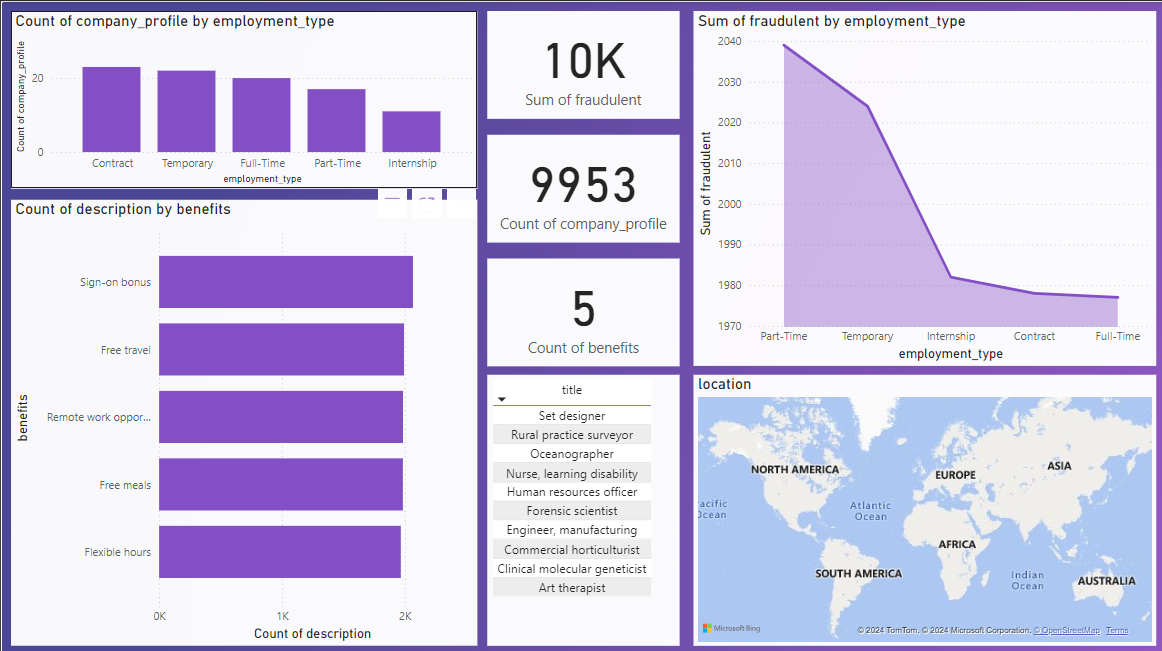

What the dashboard file says about the page in this screenshot:
{"tool":"powerbi","page":{"name":"Page 1","canvas":[1280,720],"ordinal":0},"visuals":[{"type":"areaChart","fields":{"Category":["Fake Postings.employment_type"],"Y":["Sum(Fake Postings.fraudulent)"]},"box":[760.2,11,507.7,389.7],"z":0},{"type":"clusteredColumnChart","fields":{"Category":["Fake Postings.employment_type"],"Y":["CountNonNull(Fake Postings.company_profile)"]},"box":[11,11,511.8,194.9],"z":1000},{"type":"card","fields":{"Values":["Count(Fake Postings.benefits)"]},"box":[533.8,282.7,211.3,118],"z":2000},{"type":"card","fields":{"Values":["Count(Fake Postings.company_profile)"]},"box":[533.8,146.8,211.3,118],"z":3000},{"type":"card","fields":{"Values":["Sum(Fake Postings.fraudulent)"]},"box":[533.8,11,211.3,118],"z":4000},{"type":"map","fields":{"Series":["Fake Postings.location"]},"box":[760.2,410.3,507.7,297.8],"z":5000},{"type":"tableEx","fields":{"Values":["Fake Postings.title"]},"box":[533.8,410.3,211.3,297.8],"z":6000},{"type":"clusteredBarChart","fields":{"Category":["Fake Postings.benefits"],"Y":["CountNonNull(Fake Postings.description)"]},"box":[11,218.2,511.8,489.9],"z":7000}]}

Visuals, with their boxes in screenshot pixels (x1, y1, x2, y2), scaled from the page's 1280x720 canvas onto the 1162x651 screenshot:
areaChart - Fake Postings.employment_type x Sum(Fake Postings.fraudulent): box(690, 10, 1151, 362)
clusteredColumnChart - Fake Postings.employment_type x CountNonNull(Fake Postings.company_profile): box(10, 10, 475, 186)
card - Count(Fake Postings.benefits): box(485, 256, 676, 362)
card - Count(Fake Postings.company_profile): box(485, 133, 676, 239)
card - Sum(Fake Postings.fraudulent): box(485, 10, 676, 117)
map - Fake Postings.location: box(690, 371, 1151, 640)
tableEx - Fake Postings.title: box(485, 371, 676, 640)
clusteredBarChart - Fake Postings.benefits x CountNonNull(Fake Postings.description): box(10, 197, 475, 640)
